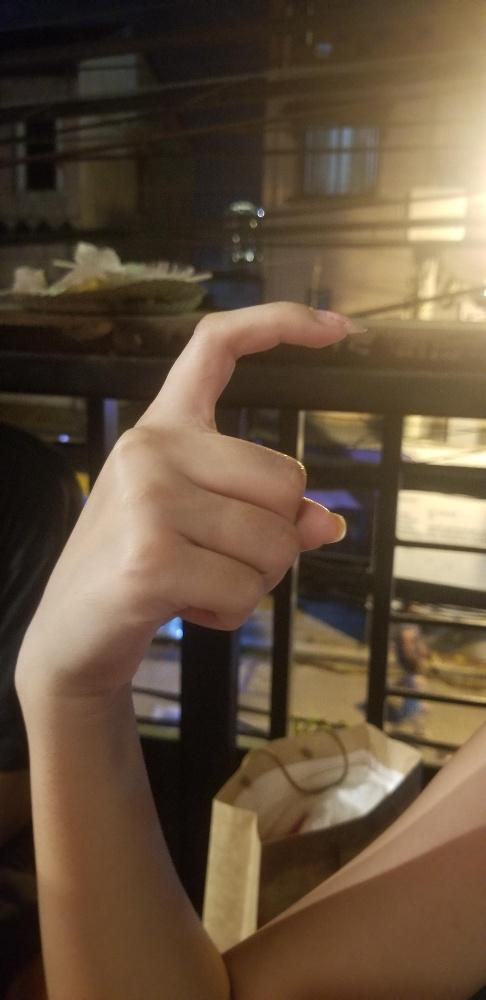x: (58, 296, 365, 696)
